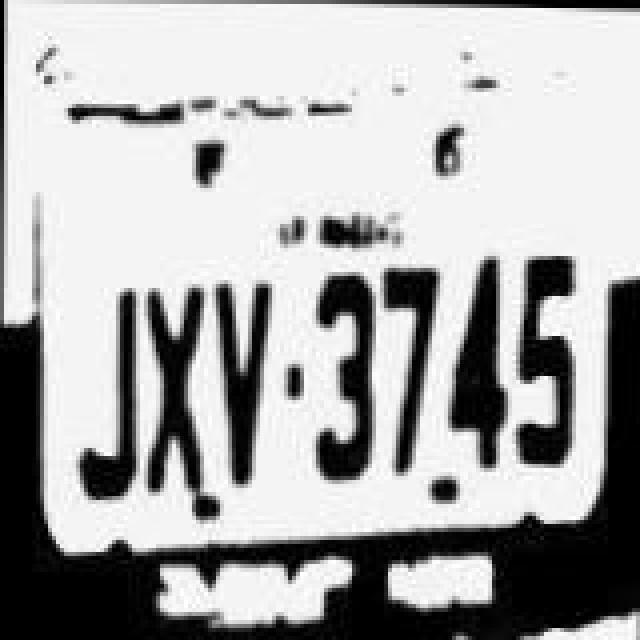3: (310, 268, 382, 488)
4: (446, 226, 518, 470)
5: (514, 250, 594, 470)
7: (380, 264, 448, 472)
J: (68, 272, 140, 496)
V: (210, 278, 278, 490)
X: (136, 282, 208, 498)
